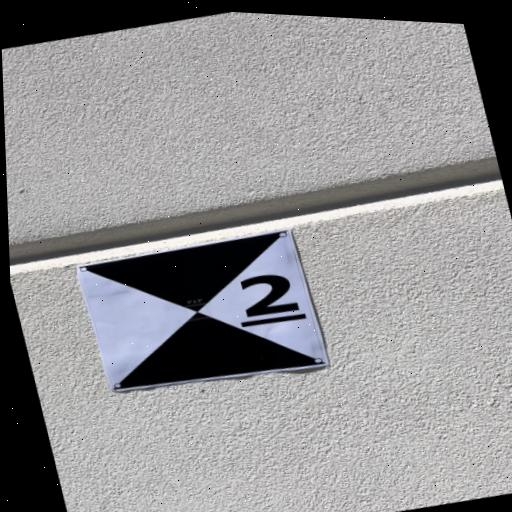target2: (73, 218, 331, 411)
